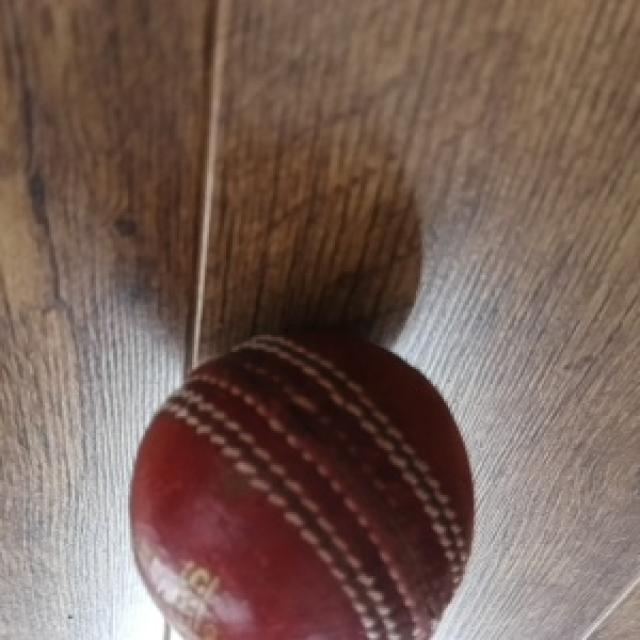ball: (128, 331, 476, 640)
